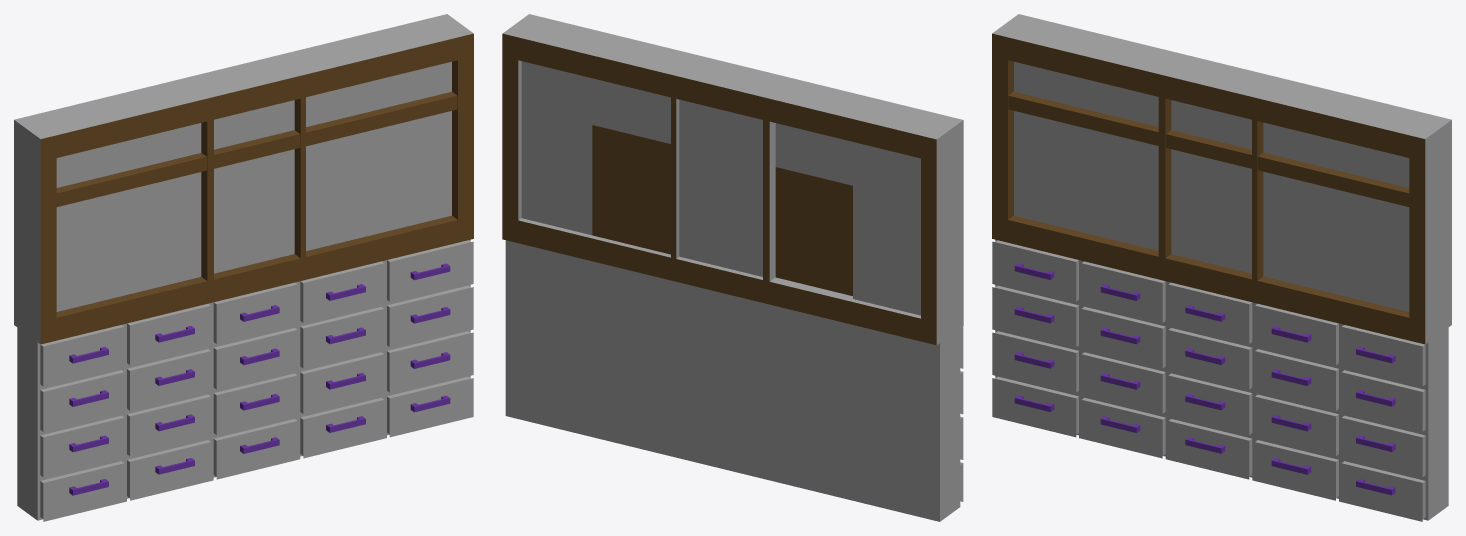
Rendered from wall_2.fbx.
The picture shows the model from 3 angles, left to right: view 1: azimuth 30°, elevation 25°; view 2: azimuth 150°, elevation 25°; view 3: azimuth 330°, elevation 25°; orthographic projection.
Visible parts, largest first — view 1: pCube17; view 2: pCube17; view 3: pCube17.
Boxes of the visible parts, x1,y1,x2,y2 form: pCube17: (14,14,473,521); pCube17: (502,14,963,521); pCube17: (992,14,1451,521).
Size of the model in its own units: 28.85 by 24.42 by 3.63.
